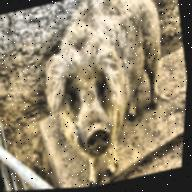boar: (7, 0, 192, 181)
